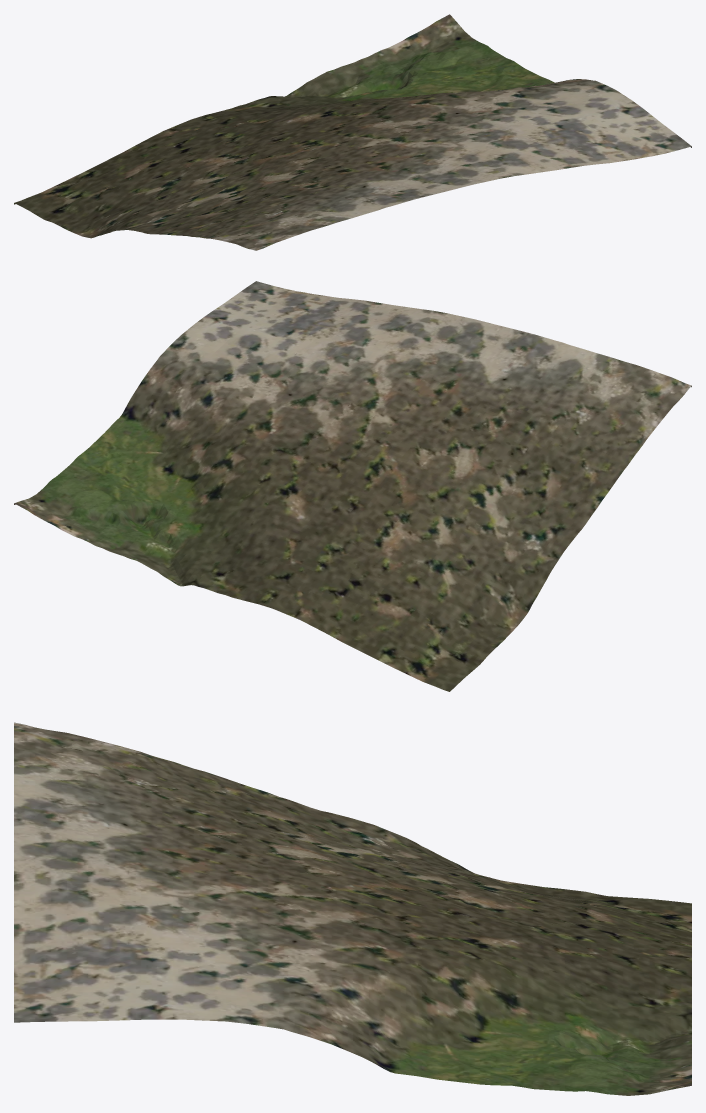
3 views of the same model, one above another, from view 1: azimuth 30°, elevation 25°; view 2: azimuth 150°, elevation 25°; view 3: azimuth 270°, elevation 25° (orthographic). The views are drawn at different scales.
Size of the model in its own units: 250 by 79.16 by 241.
1 material, 1 textured.
